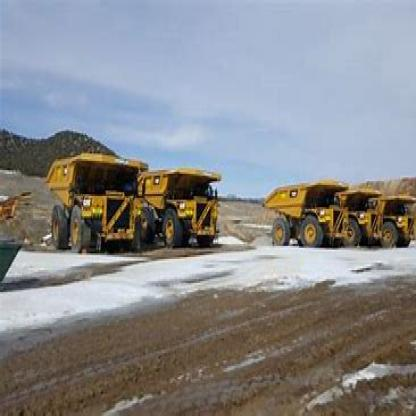dump_truck: (38, 150, 143, 257), (145, 155, 223, 266), (262, 165, 344, 253), (381, 176, 415, 260), (344, 176, 380, 252)
